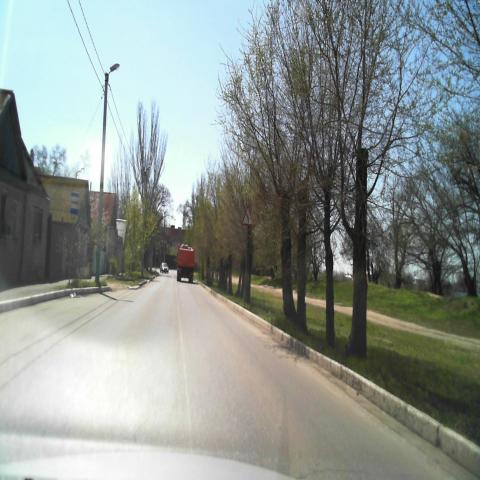1_11_1: (241, 206, 255, 226)
